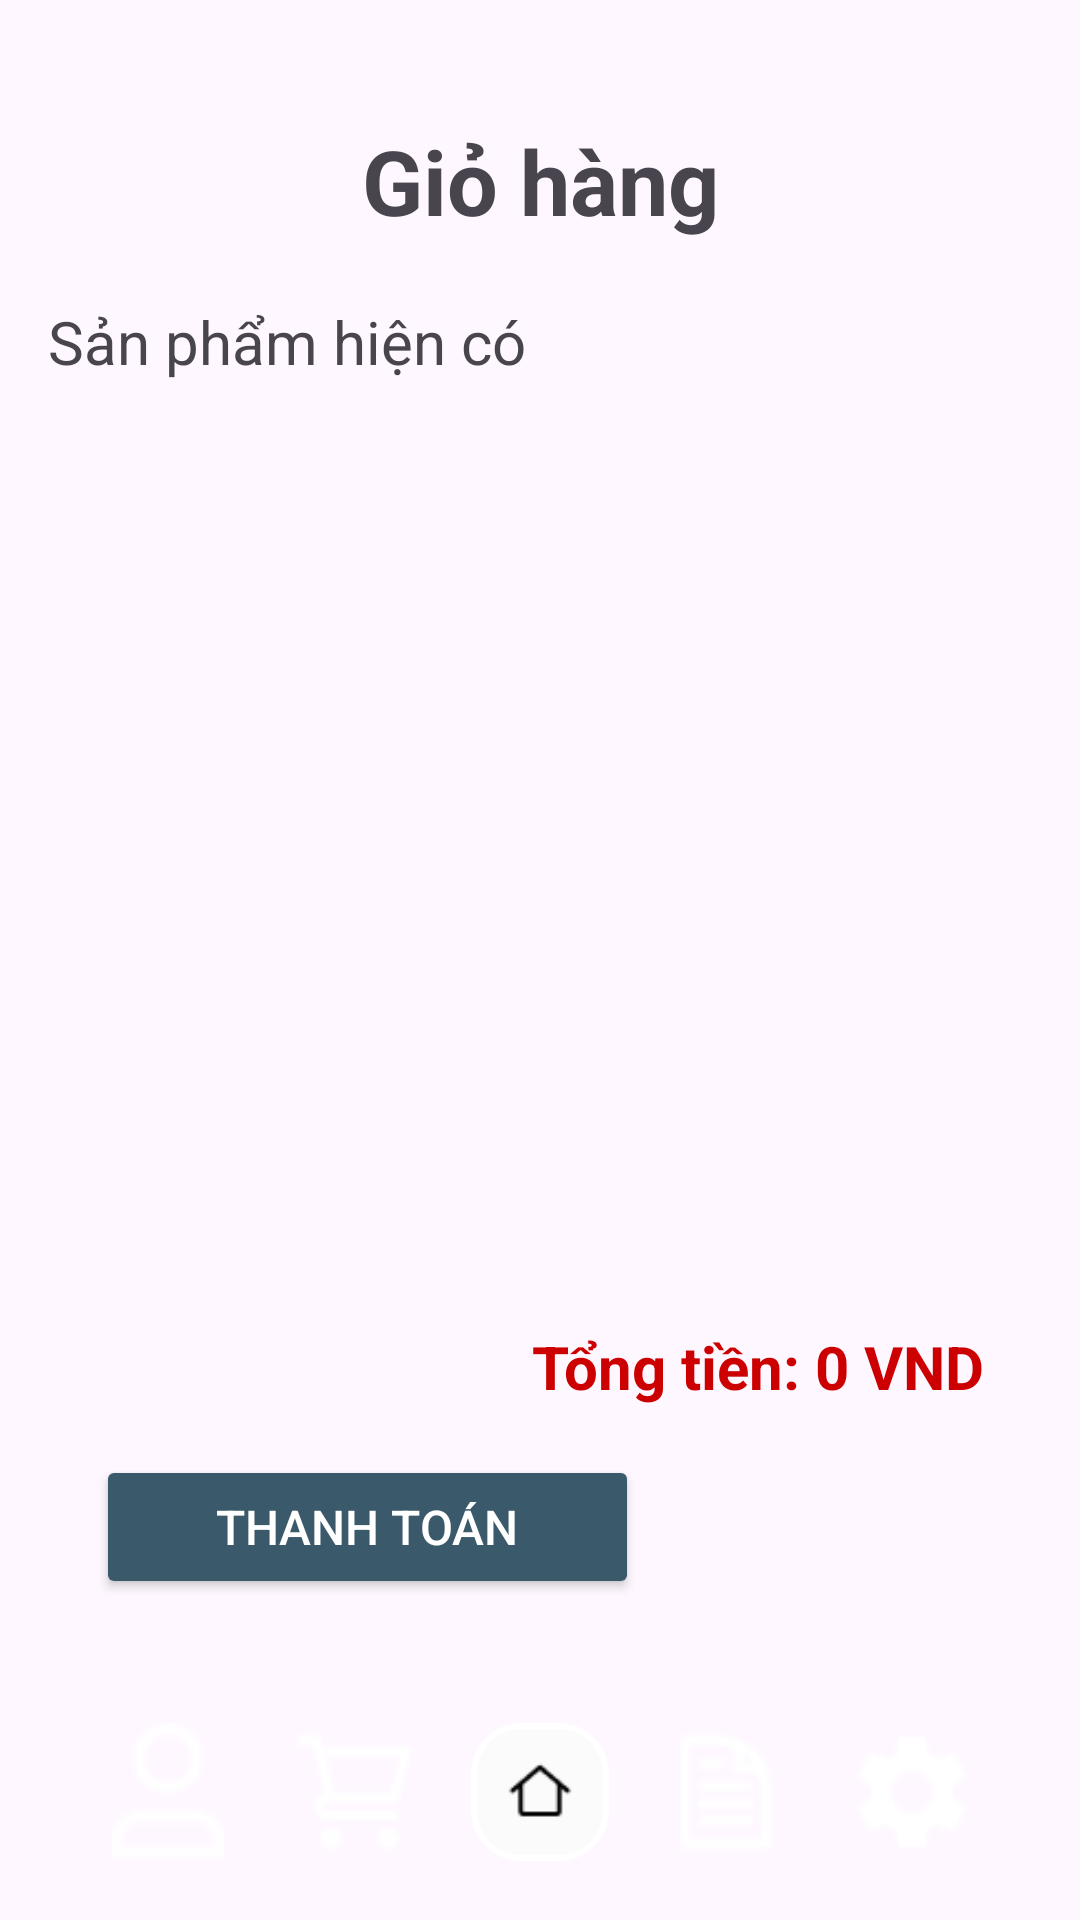

Where to tap for icons on this 1080 x 1920 app screen, as point (x, y):
trang chu: point (540, 1790)
